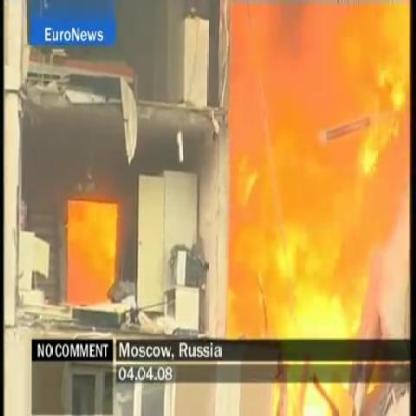fire: (230, 0, 413, 340), (67, 197, 116, 308)
